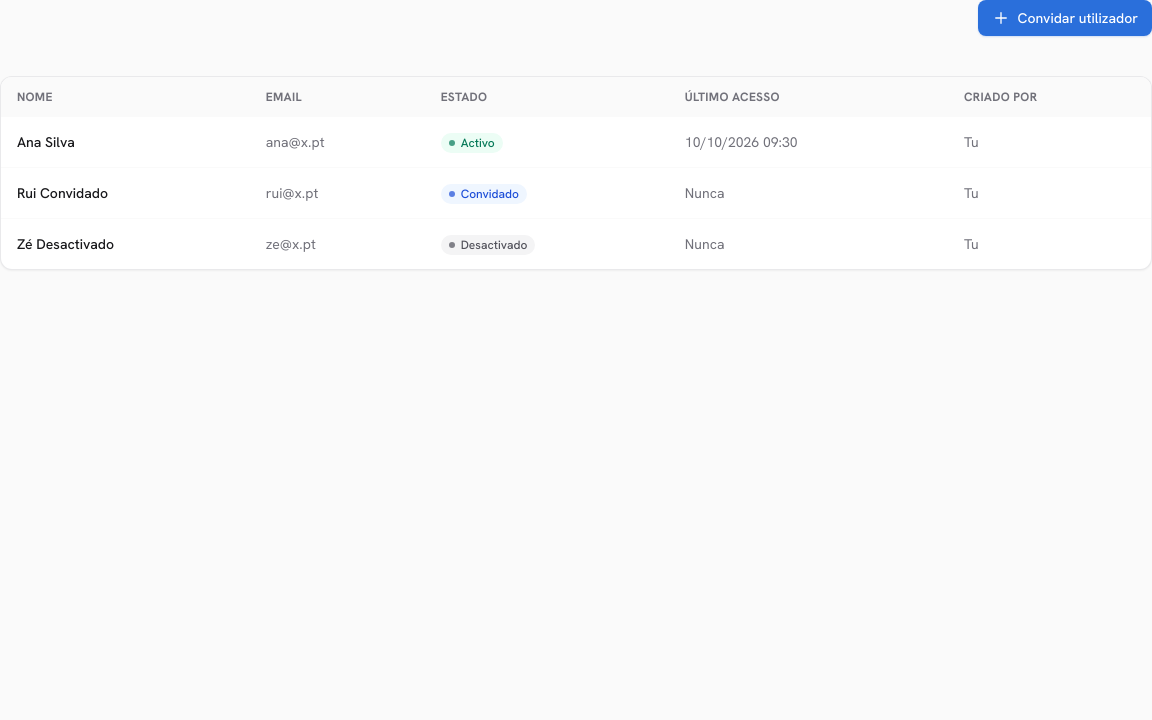
Test: Equipa — ficha do membro › activo: árvore com o estado actual, 'Enviar reset de password', Desactivar, Terminar sessões — e sem 'Reenviar convite'
The width and height of the screenshot is (1152, 720).
Click the row named "Abrir Ana Silva": [46, 142] box [1,117,1151,168]
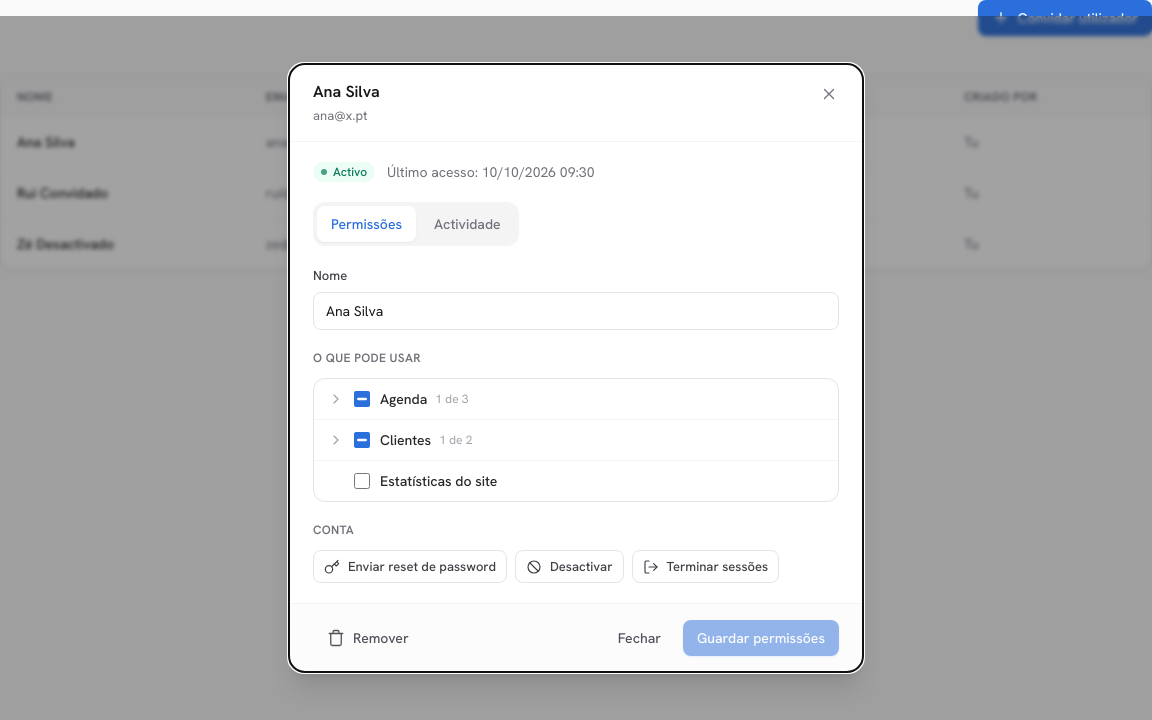
Click the button named "Abrir Agenda": [336, 399] box [326,389,346,409]
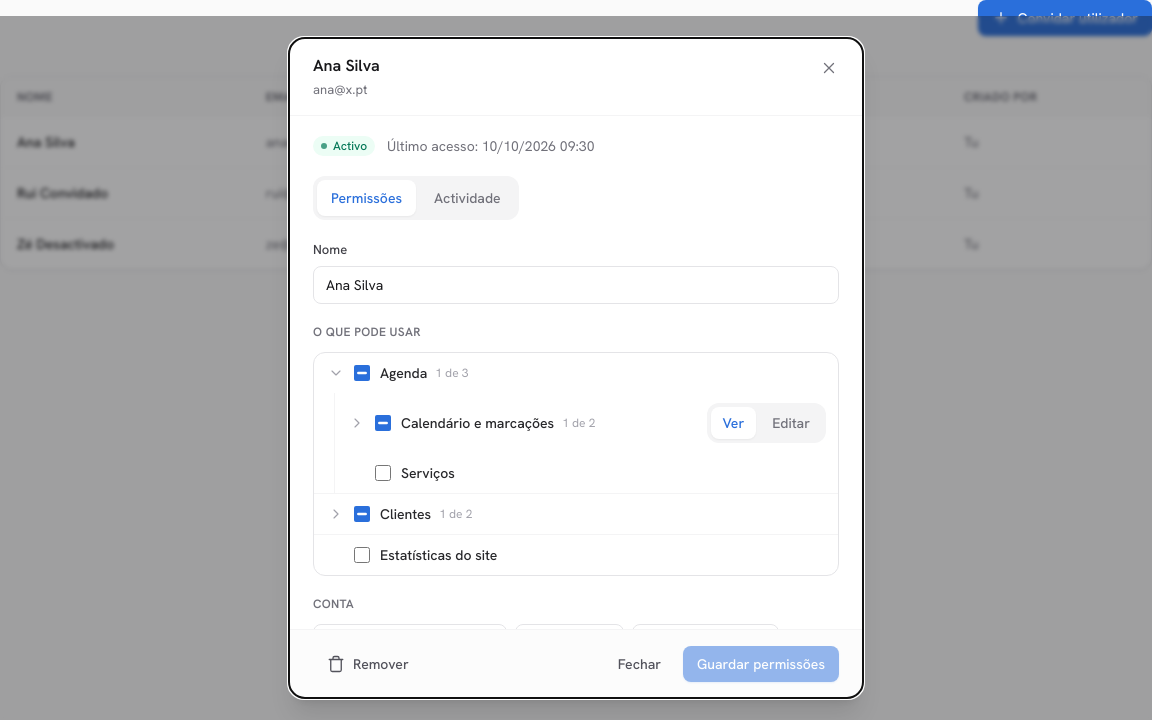
expect the tab with aria-label "Calendário e marcações: só ver" is shown: met, box [710,407,756,439]
Click the button named "Abrir Clientes": [336, 514] box [326,504,346,524]
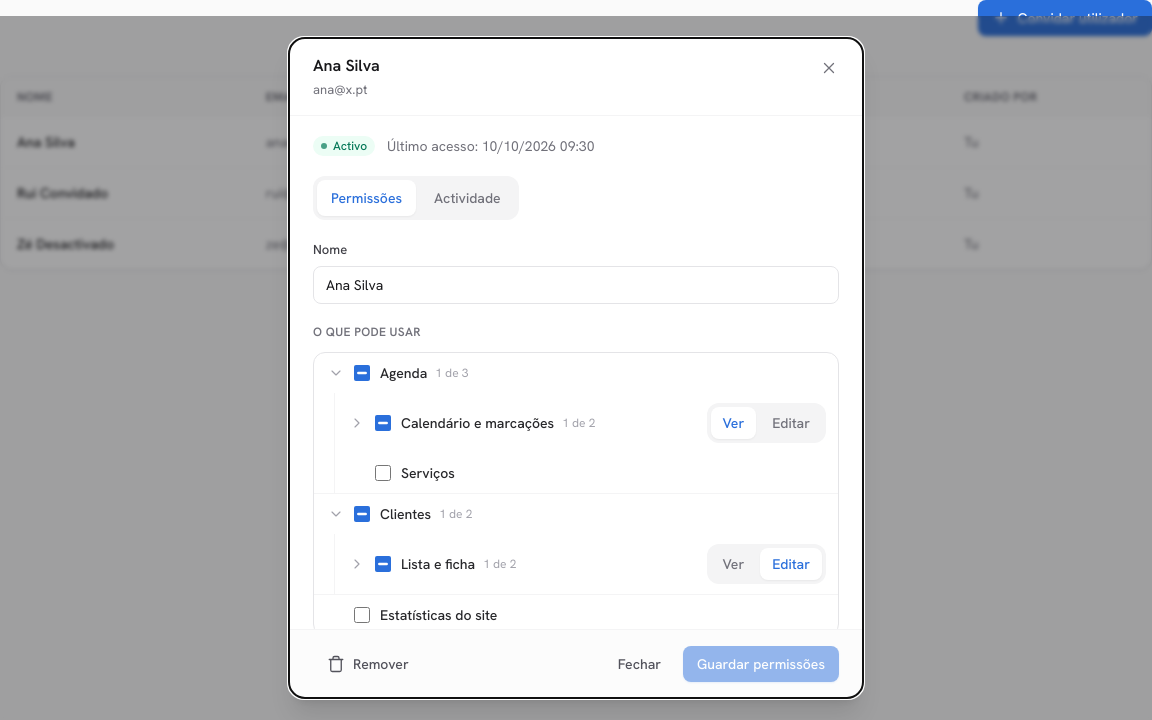
expect the tab with aria-label "Lista e ficha: editar" is shown: met, box [760,548,822,580]
